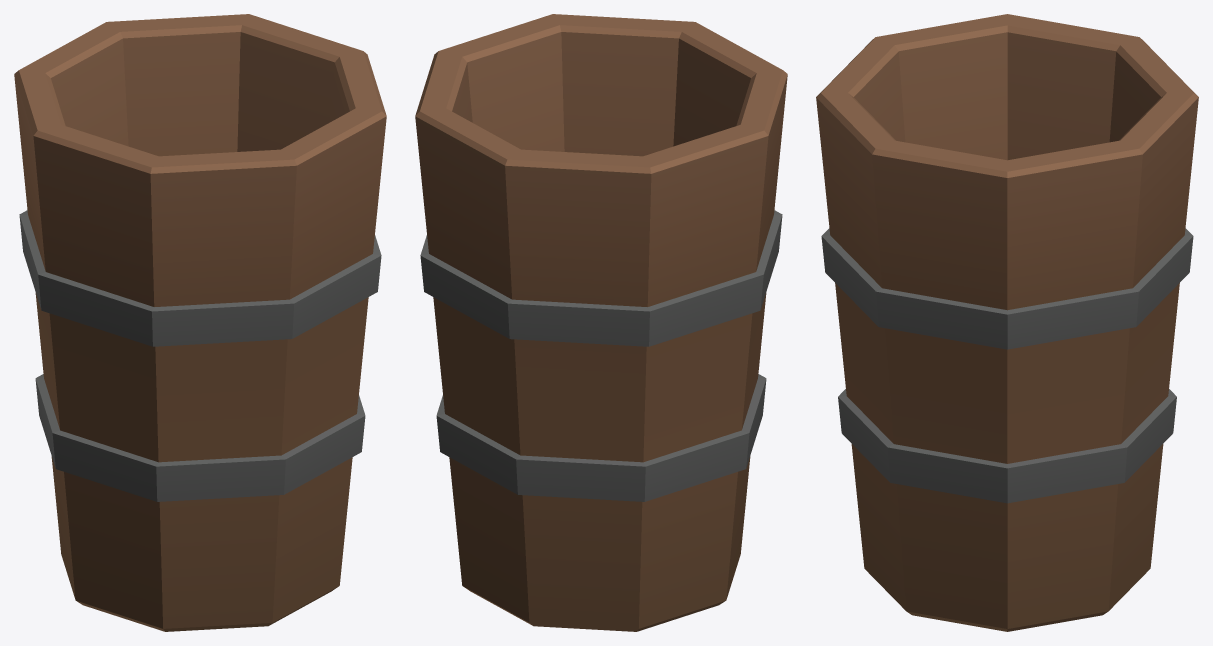
Rendered from Glass_1.fbx.
3 renders of one model, left to right at view 1: azimuth 30°, elevation 25°; view 2: azimuth 150°, elevation 25°; view 3: azimuth 270°, elevation 25°, orthographic.
Parts seen in each view (by area): view 1: Glass_1; view 2: Glass_1; view 3: Glass_1.
Part boxes in pixels (bbox=[...]): Glass_1: bbox=[14, 14, 386, 631]; Glass_1: bbox=[415, 14, 787, 631]; Glass_1: bbox=[816, 14, 1198, 631].
Bounding box in the file's own units: 15.7 × 21.81 × 15.7.
